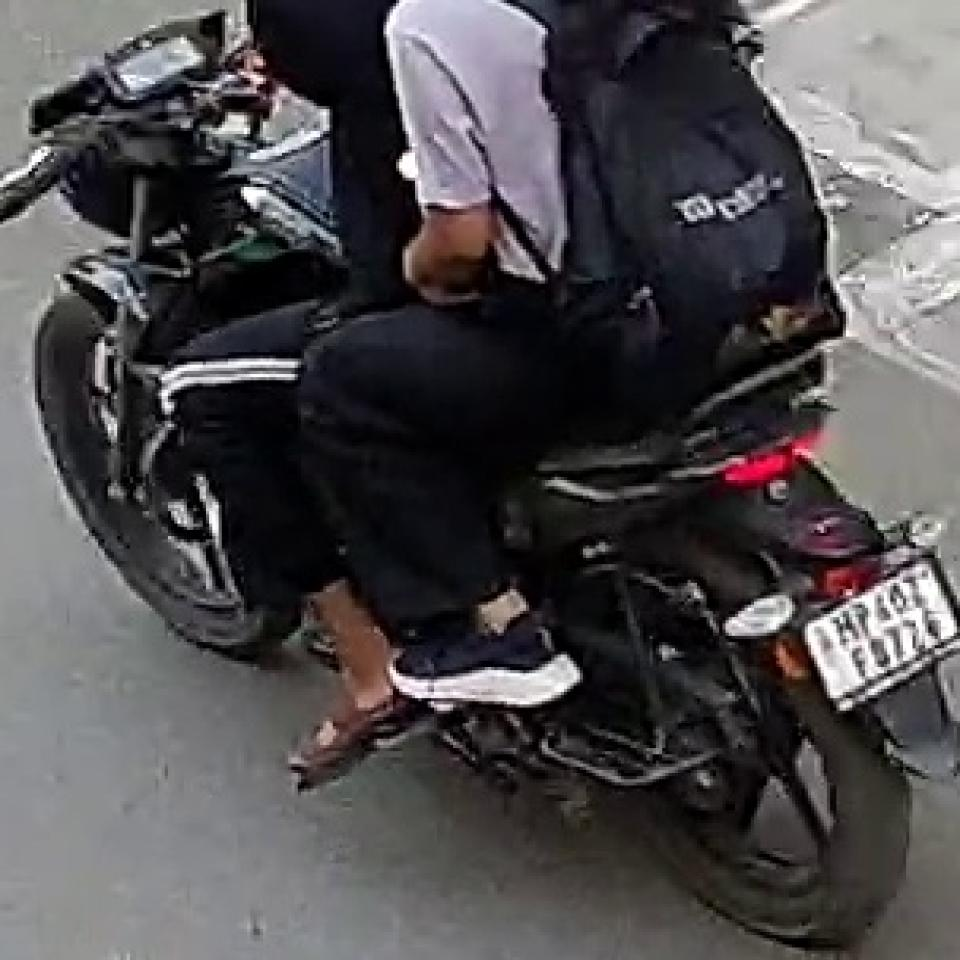tail_light: (724, 420, 830, 497)
